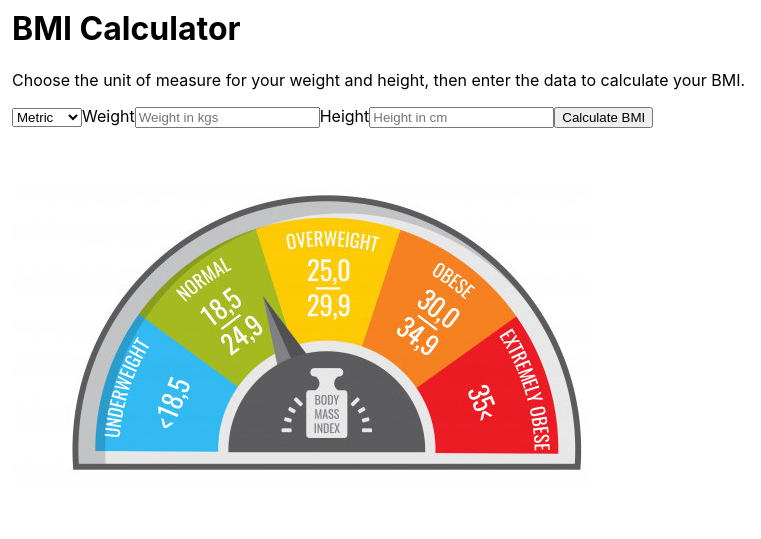
Scenario: BMI Calculator › Calculates BMI in metric
Select "Metric" in the dropdown with id "unit" at x=47, y=118, box top-left (12, 108), bottom-right (82, 127)
Type "90" into the number field with id "weight" at x=228, y=118, box top-left (135, 107), bottom-right (320, 128)
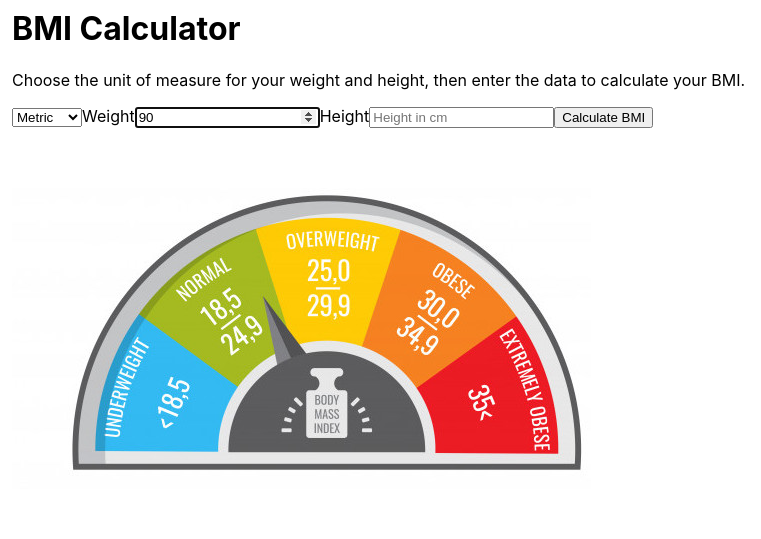
Type "190" into the number field with id "height" at x=462, y=118, box top-left (369, 107), bottom-right (554, 128)
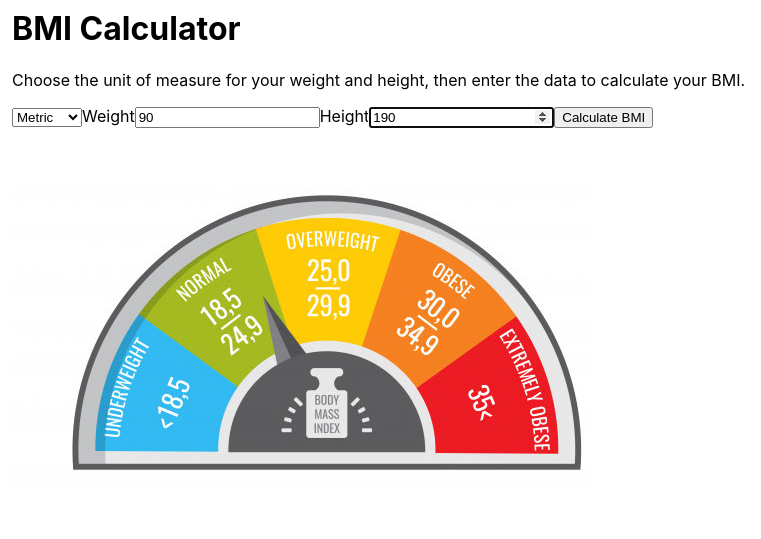
Click the button with id "calculate" at x=604, y=118, box top-left (554, 107), bottom-right (653, 128)
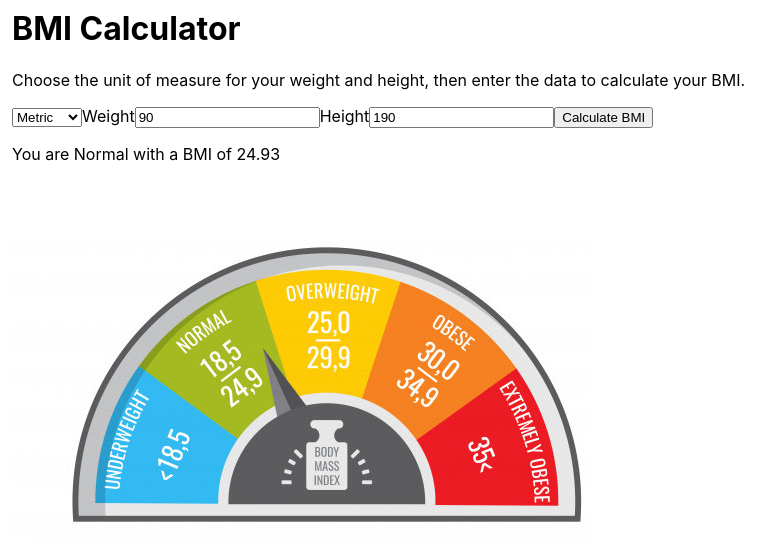
Check: the text with id "bmi-message" reads "You are Normal with a BMI of 24.93", box top-left (12, 144), bottom-right (280, 164)
